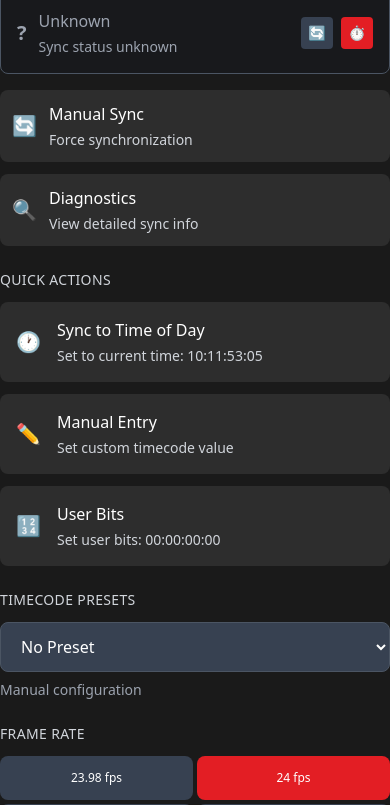
Test: TimecodeSettings › formats timecode input as user types
The width and height of the screenshot is (390, 805).
(page scrolled)
// Open manual entry modal
Click the text "Manual Entry" at (107, 422), box [57,411,157,433]
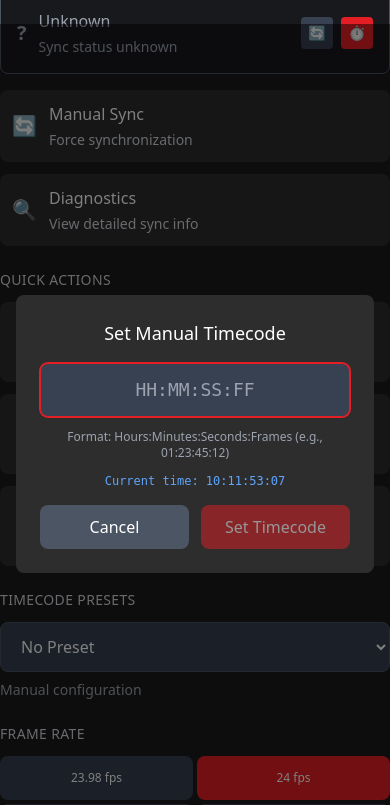
// Simulate typing numbers
Type "12345678" into the field with placeholder "HH:MM:SS:FF" at (195, 390), box [40,363,350,417]
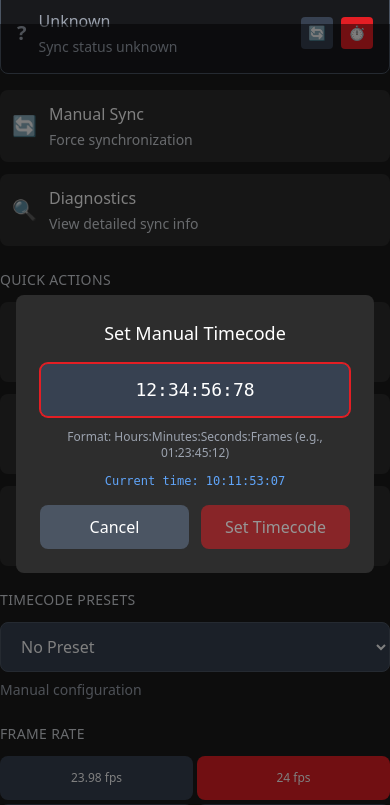
Check: the field with placeholder "HH:MM:SS:FF" holds "12:34:56:78", box [40,363,350,417]
